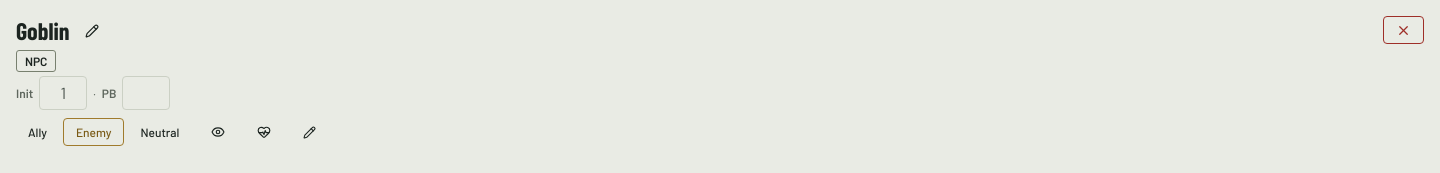
DetailHeader › non-player: Escape cancels the rename without committing
Click the button named "Rename Goblin" at (92, 31), box [73,17,111,45]
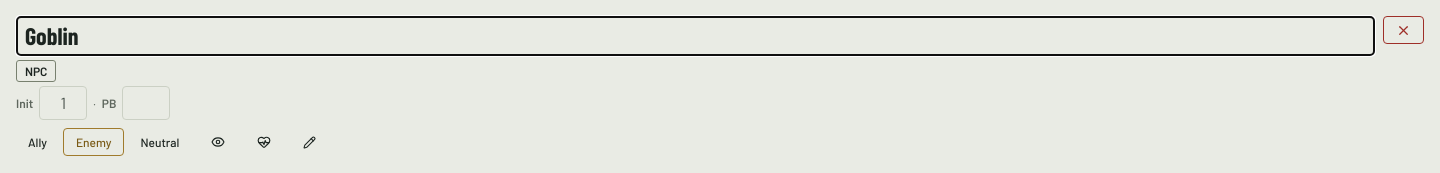
Replace the text in the field named "Combatant name" with "Should not save" at (696, 36), box [16,16,1375,56]
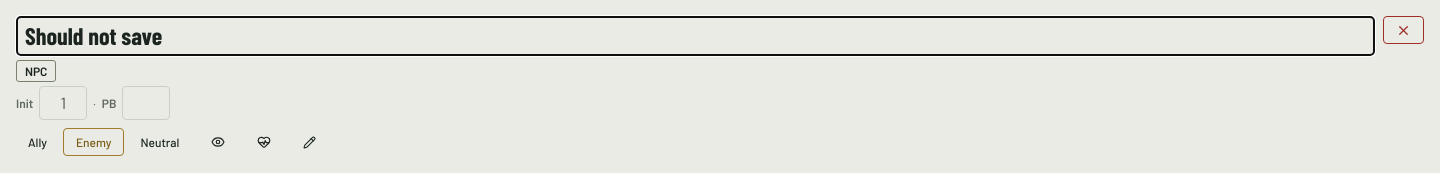
Press Escape
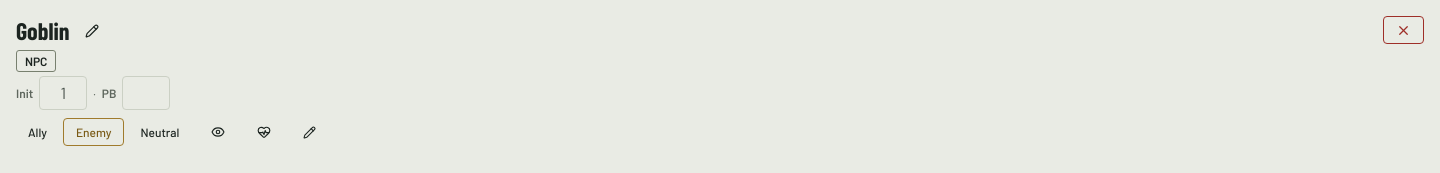
Check: the heading "Goblin" is shown, box [16,16,69,46]
